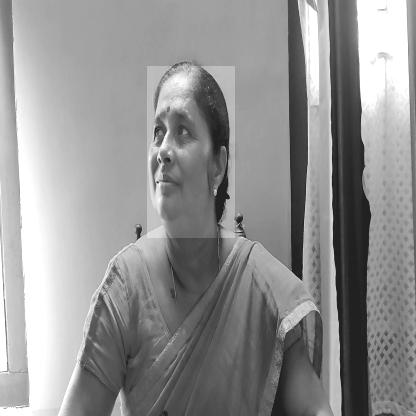Distracted: (147, 66, 235, 238)
